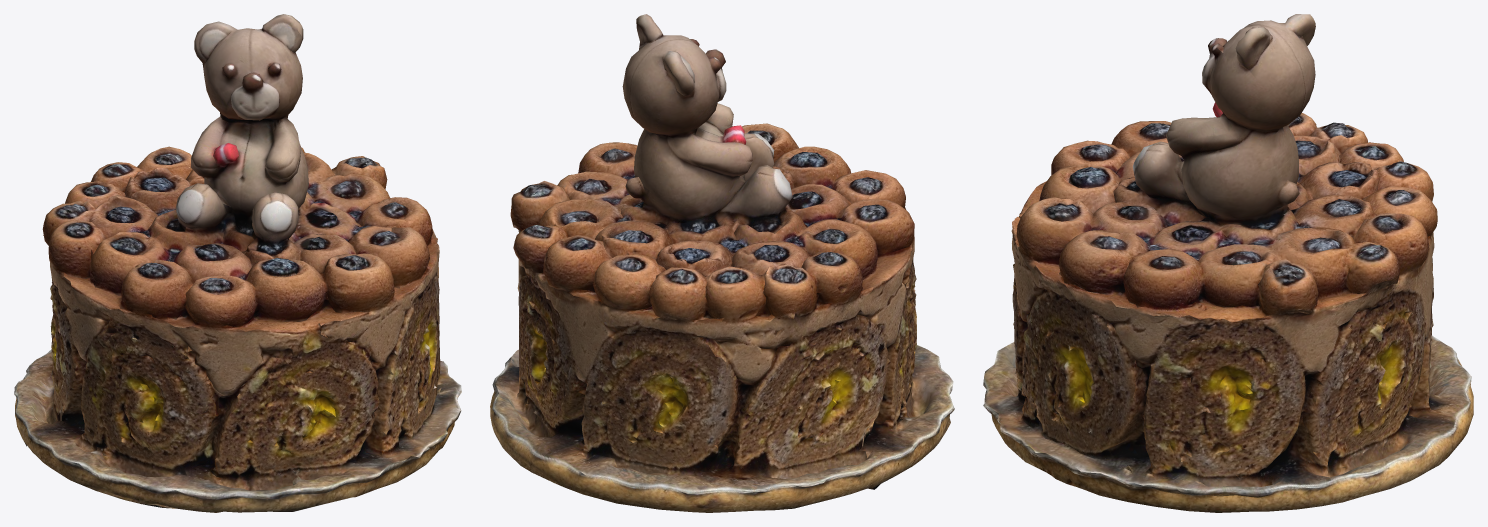
File: blackforest.glb
The picture shows the model from 3 angles, left to right: view 1: azimuth 30°, elevation 25°; view 2: azimuth 150°, elevation 25°; view 3: azimuth 270°, elevation 25°; orthographic projection. The views are drawn at different scales.
Bounding box in the file's own units: 0.1853 × 0.178 × 0.1867.
Materials: 1 (1 with a texture image).
